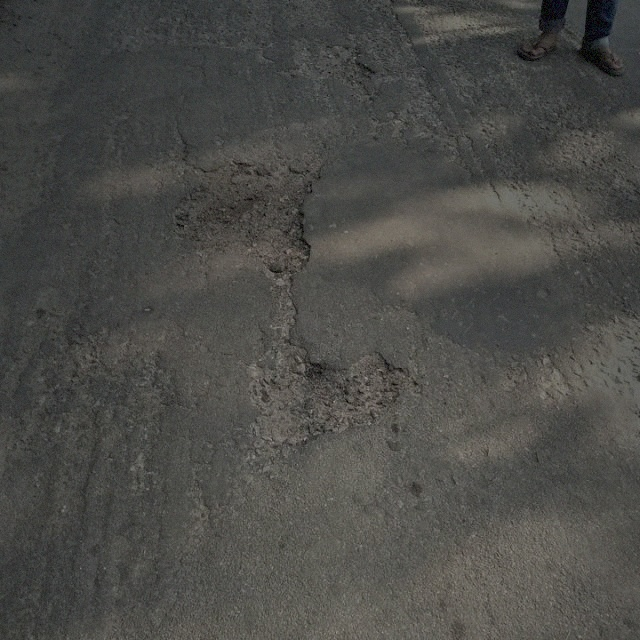pothole: (168, 155, 317, 279), (249, 338, 396, 460)
